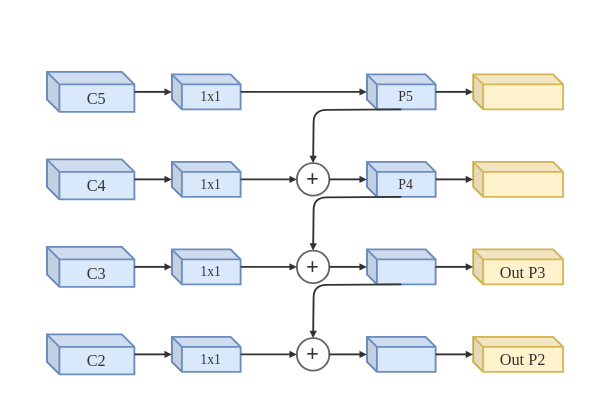
Some shapes in this 590 by 401 pixel diagram are drawn without their labels. The shapes that lost their labels are listed below. From the top down, each one's box as (x1, y1, x2, y2) in pixels, then its label:
(472, 73, 564, 110): Out P5
(472, 160, 564, 197): Out P4
(365, 248, 436, 285): P3
(365, 335, 436, 372): P2
